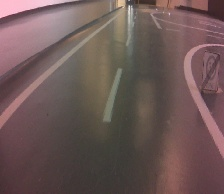zone 30 stop sign: (200, 49, 222, 92)
